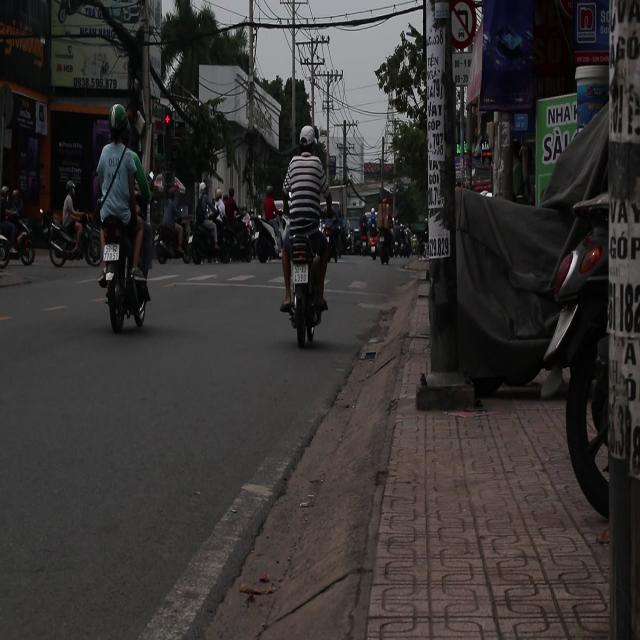motorbike: (280, 220, 332, 350), (100, 226, 152, 334), (45, 209, 100, 266), (186, 213, 227, 286), (239, 212, 287, 270), (365, 200, 397, 274), (1, 212, 36, 267), (154, 213, 186, 263), (353, 213, 382, 260)
